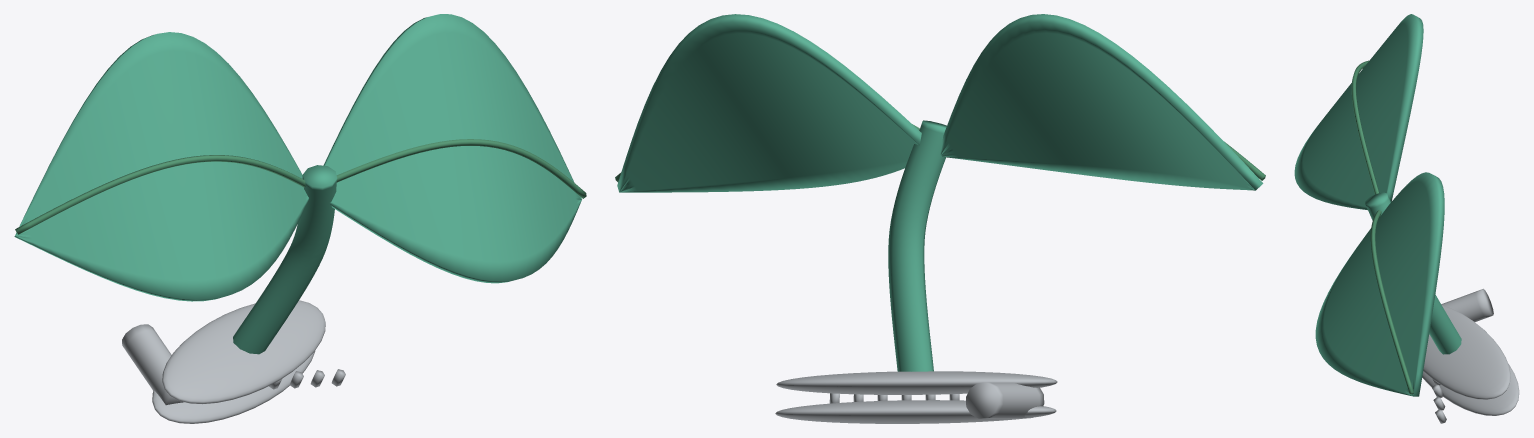
The model's file is Masculine-curly-top-sprout.glb.
The picture shows the model from 3 angles, left to right: view 1: azimuth 30°, elevation 25°; view 2: azimuth 150°, elevation 25°; view 3: azimuth 270°, elevation 25°; orthographic projection. The views are drawn at different scales.
Parts seen in each view (by area): view 1: 226 extra / Accessory / mint226, 226 extra / Sprout / clip silver235, 226 extra / Sprout / leaf vein235; view 2: 226 extra / Accessory / mint226, 226 extra / Sprout / clip silver235; view 3: 226 extra / Accessory / mint226, 226 extra / Sprout / clip silver235, 226 extra / Sprout / leaf vein235.
Boxes of the visible parts, box(x1,y1,x2,y2) form: 226 extra / Accessory / mint226: box(14, 14, 581, 354); 226 extra / Sprout / clip silver235: box(122, 300, 345, 423); 226 extra / Sprout / leaf vein235: box(15, 139, 586, 234); 226 extra / Accessory / mint226: box(617, 14, 1263, 371); 226 extra / Sprout / clip silver235: box(775, 371, 1057, 423); 226 extra / Accessory / mint226: box(1294, 14, 1461, 396); 226 extra / Sprout / clip silver235: box(1422, 288, 1519, 423); 226 extra / Sprout / leaf vein235: box(1351, 60, 1413, 394).
Bounding box in the file's own units: 0.2199 × 0.1448 × 0.0905.
